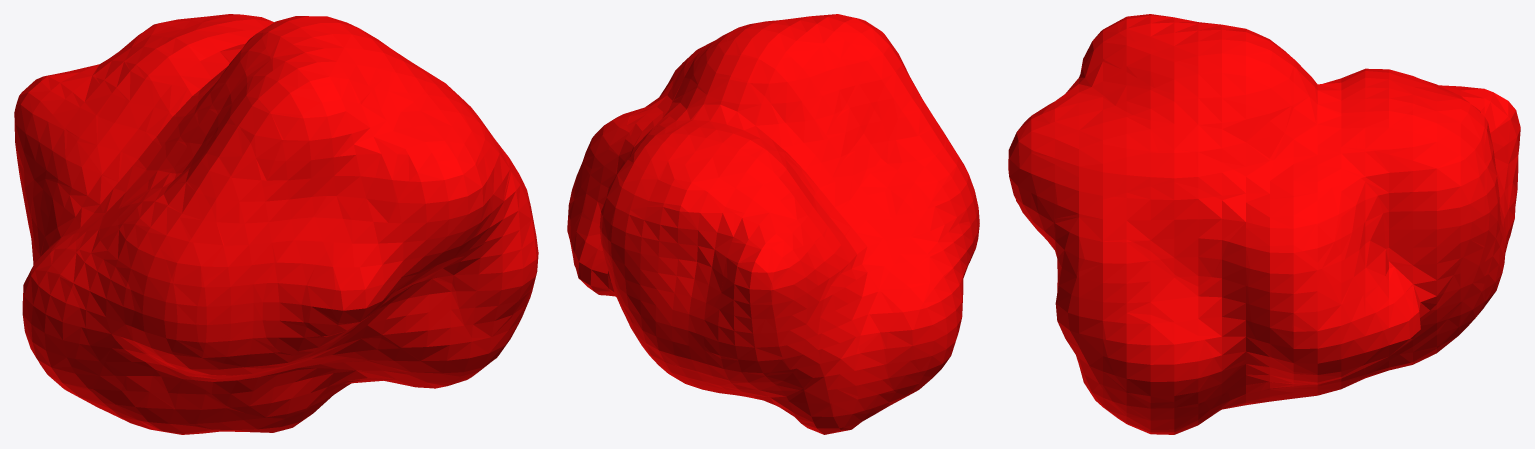
The model's file is panZ_coarse.dae.
3 views of the same model, side by side, from view 1: azimuth 30°, elevation 25°; view 2: azimuth 150°, elevation 25°; view 3: azimuth 270°, elevation 25° (orthographic). The views are drawn at different scales.
Visible parts, largest first — view 1: panZ; view 2: panZ; view 3: panZ.
Part boxes in pixels (x1,y1,x2,y2): panZ: [14, 14, 538, 434]; panZ: [567, 14, 979, 434]; panZ: [1008, 14, 1520, 434].
Bounding box in the file's own units: 40.83 × 35.64 × 43.06.
